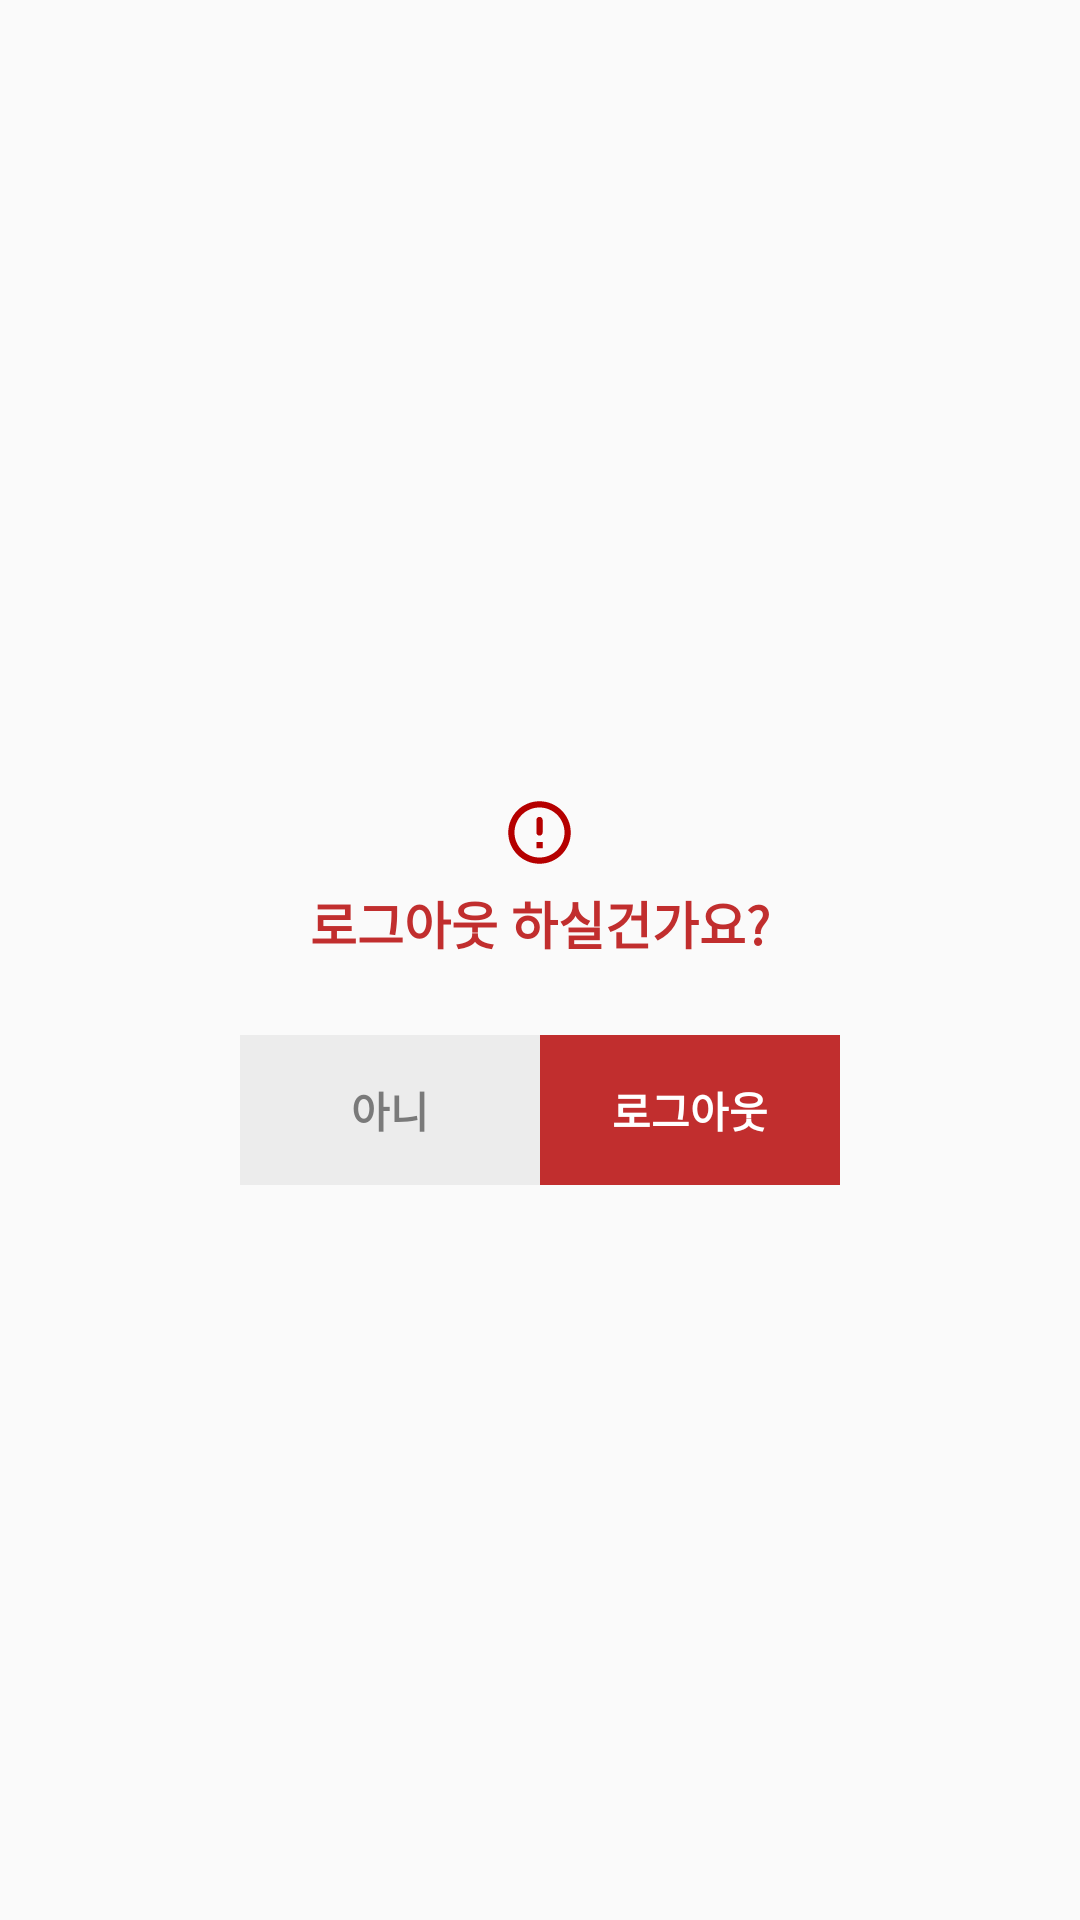

Where to tap for icons on this 1080×1920 app screen, as (x,y):
error: (539,832)
